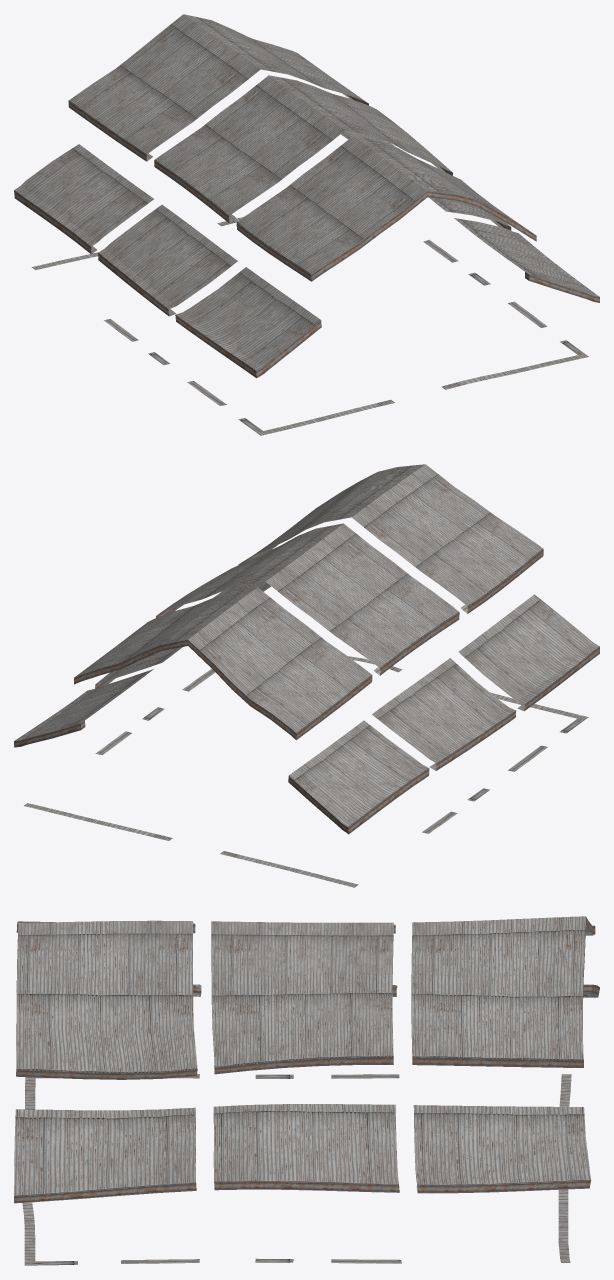
The model's file is Dragonfly_Abduction_Barn_Roof.fbx.
3 renders of one model, top to bottom at view 1: azimuth 30°, elevation 25°; view 2: azimuth 150°, elevation 25°; view 3: azimuth 270°, elevation 25°, orthographic. The views are drawn at different scales.
Parts seen in each view (by area): view 1: Barn_Roof; view 2: Barn_Roof; view 3: Barn_Roof.
Part boxes in pixels (<box>): Barn_Roof: <box>14,14,599,435</box>; Barn_Roof: <box>14,464,599,887</box>; Barn_Roof: <box>14,916,599,1265</box>.
Bounding box in the file's own units: 26.51 × 15.42 × 32.64.
